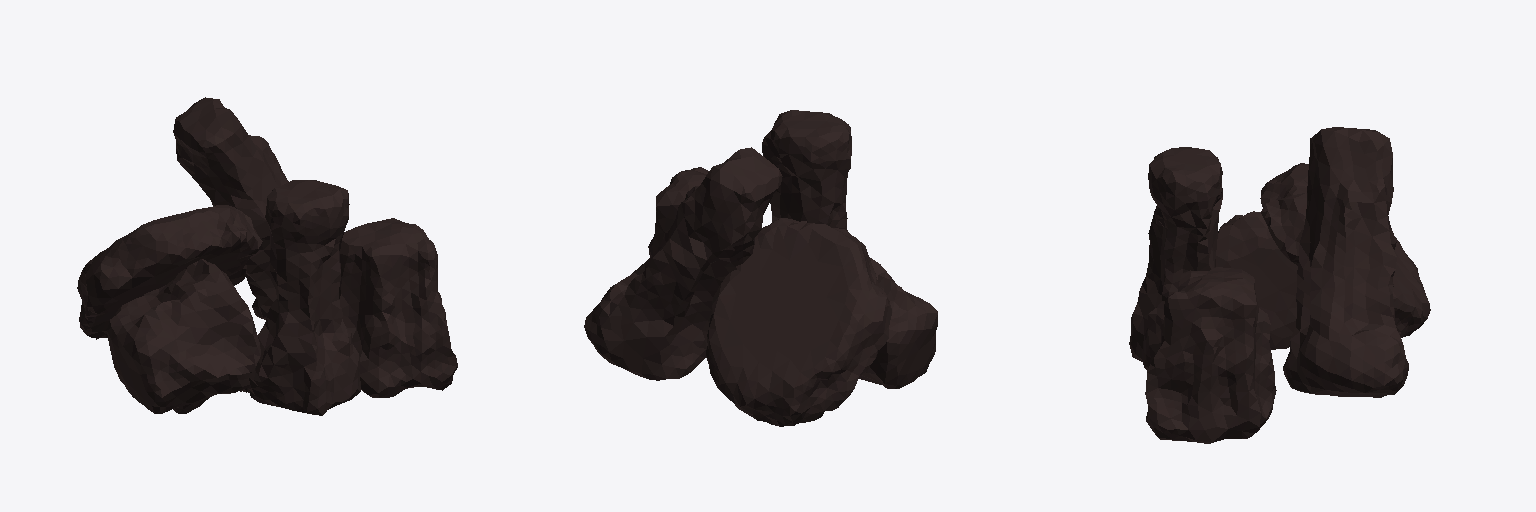
The model's file is Mine.obj.
3 views of the same model, side by side, from view 1: azimuth 30°, elevation 25°; view 2: azimuth 150°, elevation 25°; view 3: azimuth 270°, elevation 25° (orthographic).
Visible parts, largest first — view 1: RockSet05A, RockSet05B, RockSet05C, RockSet05D, RockSet05E; view 2: RockSet05D, RockSet05E, RockSet05A, RockSet05B, RockSet05C; view 3: RockSet05E, RockSet05C, RockSet05A, RockSet05B, RockSet05D.
Part boxes in pixels (bbox=[...]): RockSet05A: bbox=[247, 180, 360, 415]; RockSet05B: bbox=[107, 259, 260, 413]; RockSet05C: bbox=[339, 218, 457, 397]; RockSet05D: bbox=[77, 205, 262, 339]; RockSet05E: bbox=[173, 97, 288, 319]; RockSet05D: bbox=[705, 218, 891, 426]; RockSet05E: bbox=[584, 147, 782, 380]; RockSet05A: bbox=[762, 110, 851, 231]; RockSet05B: bbox=[858, 258, 937, 388]; RockSet05C: bbox=[648, 167, 708, 257]; RockSet05E: bbox=[1283, 127, 1408, 397]; RockSet05C: bbox=[1145, 267, 1276, 443]; RockSet05A: bbox=[1129, 147, 1222, 370]; RockSet05B: bbox=[1215, 211, 1297, 349]; RockSet05D: bbox=[1260, 163, 1430, 337].
Size of the model in its own units: 32.03 by 26.65 by 28.98.